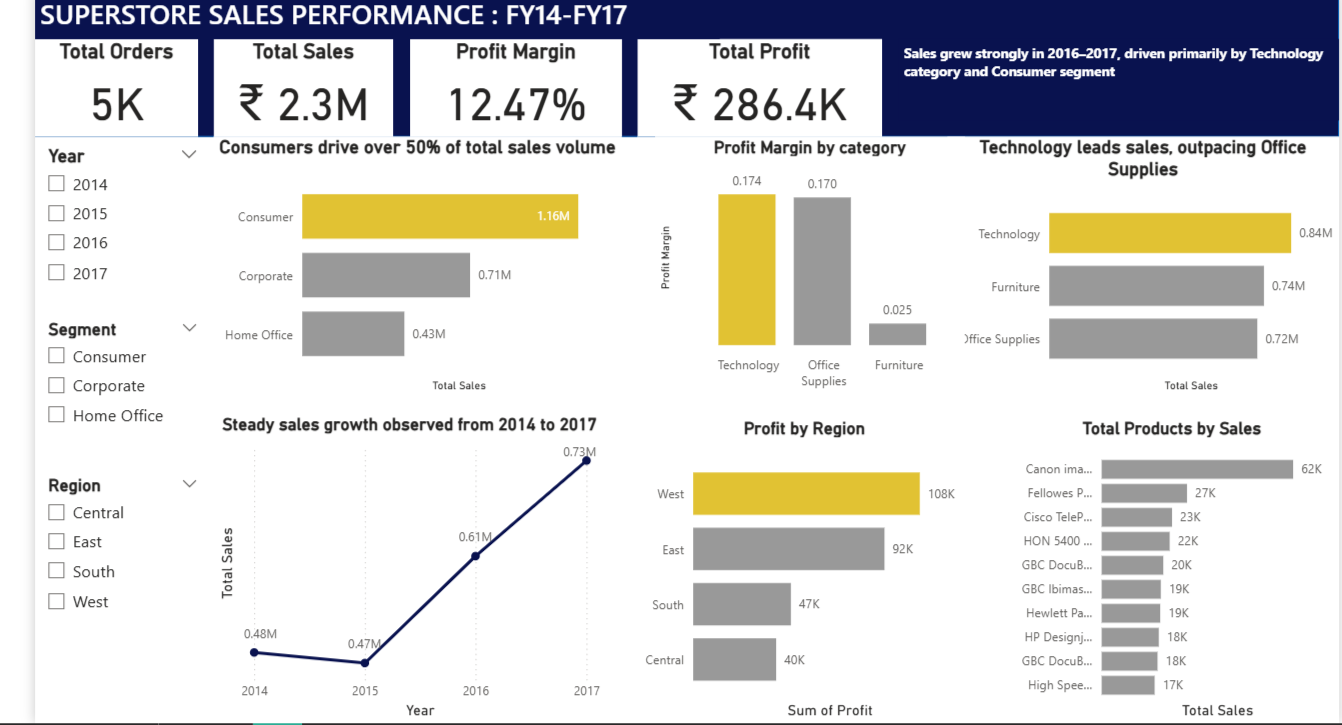

What the dashboard file says about the page in this screenshot:
{"tool":"powerbi","page":{"name":"Page 1","canvas":[1280,720],"ordinal":0},"visuals":[{"type":"shape","box":[0,0,1280,144],"z":0},{"type":"lineChart","title":"Steady sales growth observed from 2014 to 2017","fields":{"Y":["sales_dw vw_sales_analytics.Total Sales"],"Category":["sales_dw vw_sales_analytics.order_date.Variation.Date Hierarchy.Year"]},"box":[176,416,384,304],"z":1000},{"type":"clusteredBarChart","title":"Technology leads sales, outpacing Office Supplies","fields":{"Y":["sales_dw vw_sales_analytics.Total Sales"],"Category":["sales_dw vw_sales_analytics.category"]},"box":[896,144,384,256],"z":2000},{"type":"barChart","title":"Profit by Region","fields":{"Y":["Sum(sales_dw vw_sales_analytics.Profit)"],"Category":["sales_dw vw_sales_analytics.Region"]},"box":[590.2,419.6,330.1,300.6],"z":3000},{"type":"barChart","title":"Total Products by Sales","fields":{"Category":["sales_dw vw_sales_analytics.product_name"],"Y":["sales_dw vw_sales_analytics.Total Sales"]},"box":[952.2,419.6,327.6,300.6],"z":4000},{"type":"barChart","title":"Consumers drive over 50% of total sales volume","fields":{"Category":["sales_dw vw_sales_analytics.segment"],"Y":["sales_dw vw_sales_analytics.Total Sales"]},"box":[176,144,400,256],"z":5000},{"type":"slicer","fields":{"Values":["sales_dw vw_sales_analytics.year"]},"box":[0,147.2,171.8,170.6],"z":6000},{"type":"slicer","fields":{"Values":["sales_dw vw_sales_analytics.segment"]},"box":[0,317.8,171.8,153.4],"z":7000},{"type":"slicer","fields":{"Values":["sales_dw vw_sales_analytics.Region"]},"box":[0,471.2,171.8,249.1],"z":8000},{"type":"card","title":"Total Orders","fields":{"Values":["sales_dw vw_sales_analytics.Total Orders"]},"box":[0,48,160,96],"z":9000},{"type":"card","title":"Total Profit","fields":{"Values":["sales_dw vw_sales_analytics.Total Profit"]},"box":[592,48,240,96],"z":10000},{"type":"card","title":"Total Sales","fields":{"Values":["sales_dw vw_sales_analytics.Total Sales"]},"box":[176,48,176,96],"z":11000},{"type":"card","title":"Profit Margin","fields":{"Values":["sales_dw vw_sales_analytics.Profit Margin"]},"box":[368,48,208,96],"z":12000},{"type":"textbox","box":[848,48,432,80],"z":13000},{"type":"textbox","box":[0,0,672,48],"z":14000},{"type":"clusteredColumnChart","fields":{"Y":["sales_dw vw_sales_analytics.Profit Margin"],"Category":["sales_dw vw_sales_analytics.category"]},"box":[608,144,304,256],"z":15000}]}

Visuals, with their boxes on the page's 1280x720 design canvas (x1, y1, x2, y2). These are canvas units, not pixel positions in the 1342x725 screenshot, which may show the page scaled, cropped or inside an application window:
shape: region(0, 0, 1280, 144)
"Steady sales growth observed from 2014 to 2017" lineChart: region(176, 416, 560, 720)
"Technology leads sales, outpacing Office Supplies" clusteredBarChart: region(896, 144, 1280, 400)
"Profit by Region" barChart: region(590, 420, 920, 720)
"Total Products by Sales" barChart: region(952, 420, 1280, 720)
"Consumers drive over 50% of total sales volume" barChart: region(176, 144, 576, 400)
slicer - sales_dw vw_sales_analytics.year: region(0, 147, 172, 318)
slicer - sales_dw vw_sales_analytics.segment: region(0, 318, 172, 471)
slicer - sales_dw vw_sales_analytics.Region: region(0, 471, 172, 720)
"Total Orders" card: region(0, 48, 160, 144)
"Total Profit" card: region(592, 48, 832, 144)
"Total Sales" card: region(176, 48, 352, 144)
"Profit Margin" card: region(368, 48, 576, 144)
textbox: region(848, 48, 1280, 128)
textbox: region(0, 0, 672, 48)
clusteredColumnChart - sales_dw vw_sales_analytics.Profit Margin x sales_dw vw_sales_analytics.category: region(608, 144, 912, 400)
